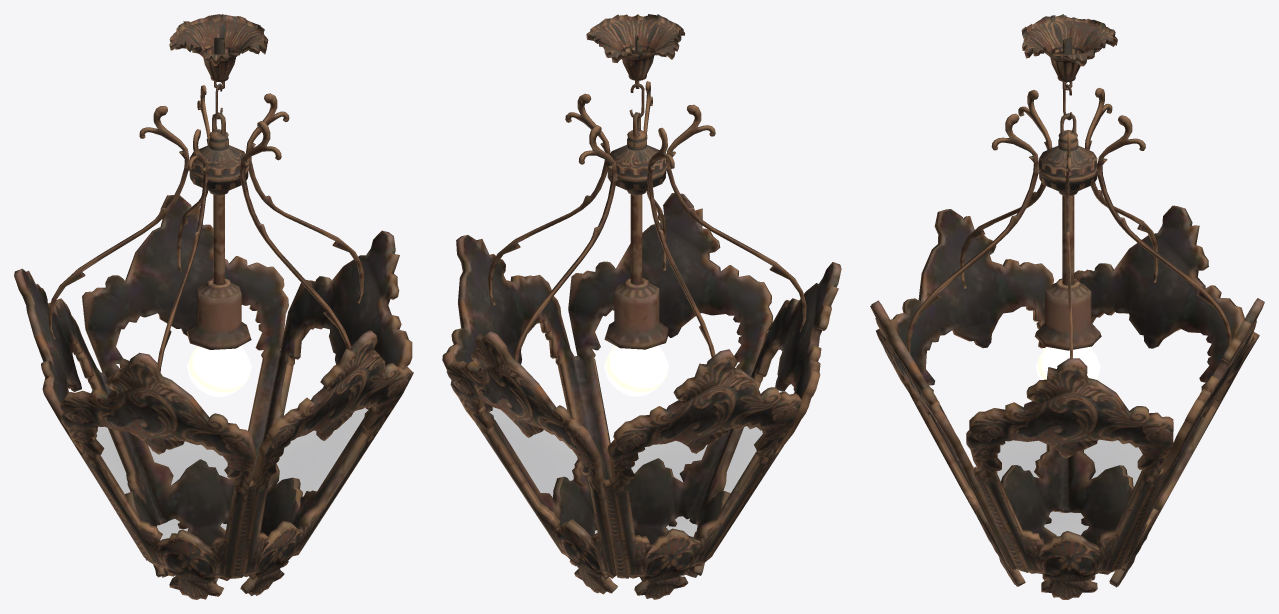
Rendered from lantern_chandelier_01.glb.
3 renders of one model, left to right at view 1: azimuth 30°, elevation 25°; view 2: azimuth 150°, elevation 25°; view 3: azimuth 270°, elevation 25°, orthographic.
Parts seen in each view (by area): view 1: lantern_chandelier_01; view 2: lantern_chandelier_01; view 3: lantern_chandelier_01.
Part boxes in pixels (bbox=[...]): lantern_chandelier_01: bbox=[14, 14, 413, 599]; lantern_chandelier_01: bbox=[442, 14, 841, 599]; lantern_chandelier_01: bbox=[870, 14, 1264, 599].
Bounding box in the file's own units: 0.5792 × 0.8776 × 0.5746.
3 materials, 2 textured.
